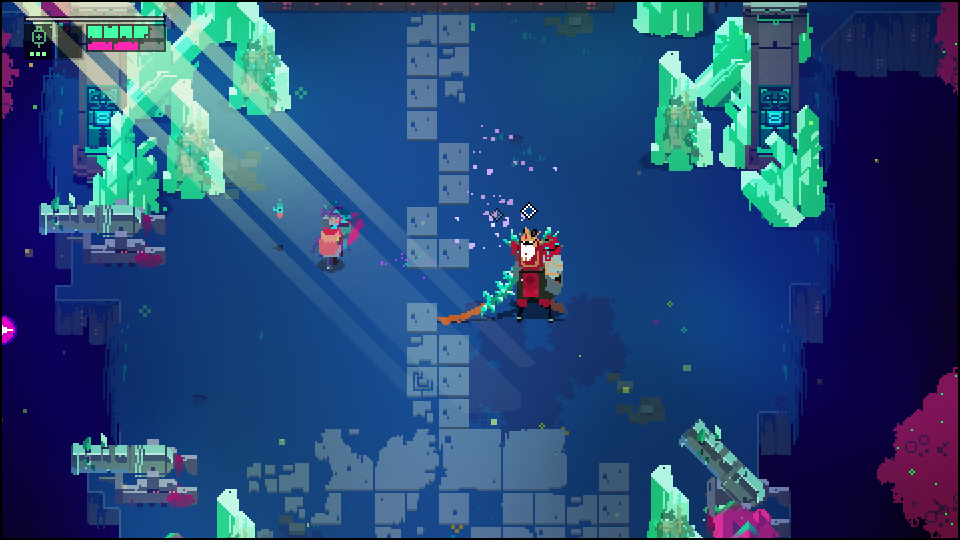hanged_man: (481, 224, 562, 329)
player: (318, 216, 344, 268)
